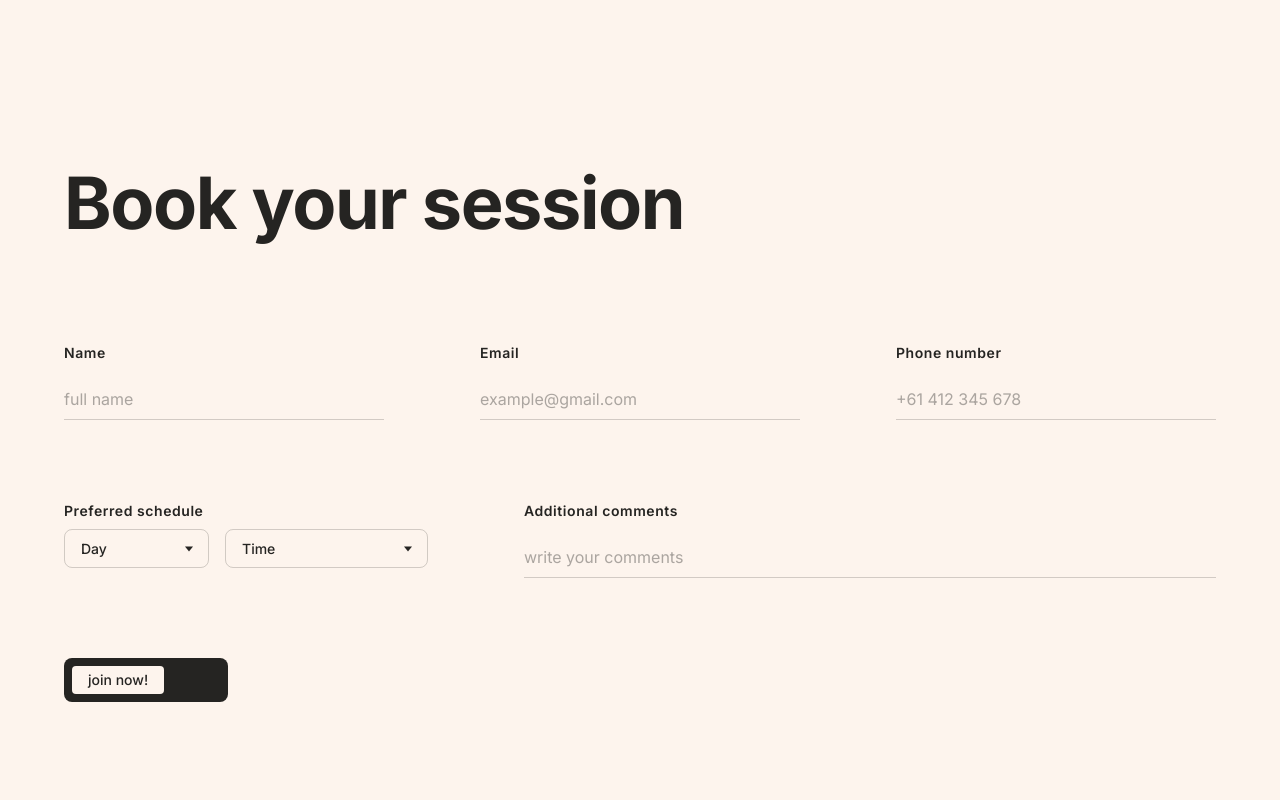
Test: BookingSection › shows error when name is empty on submit
Click the button "join now!" at (146, 680), box x1=64 y1=658 x2=228 y2=702
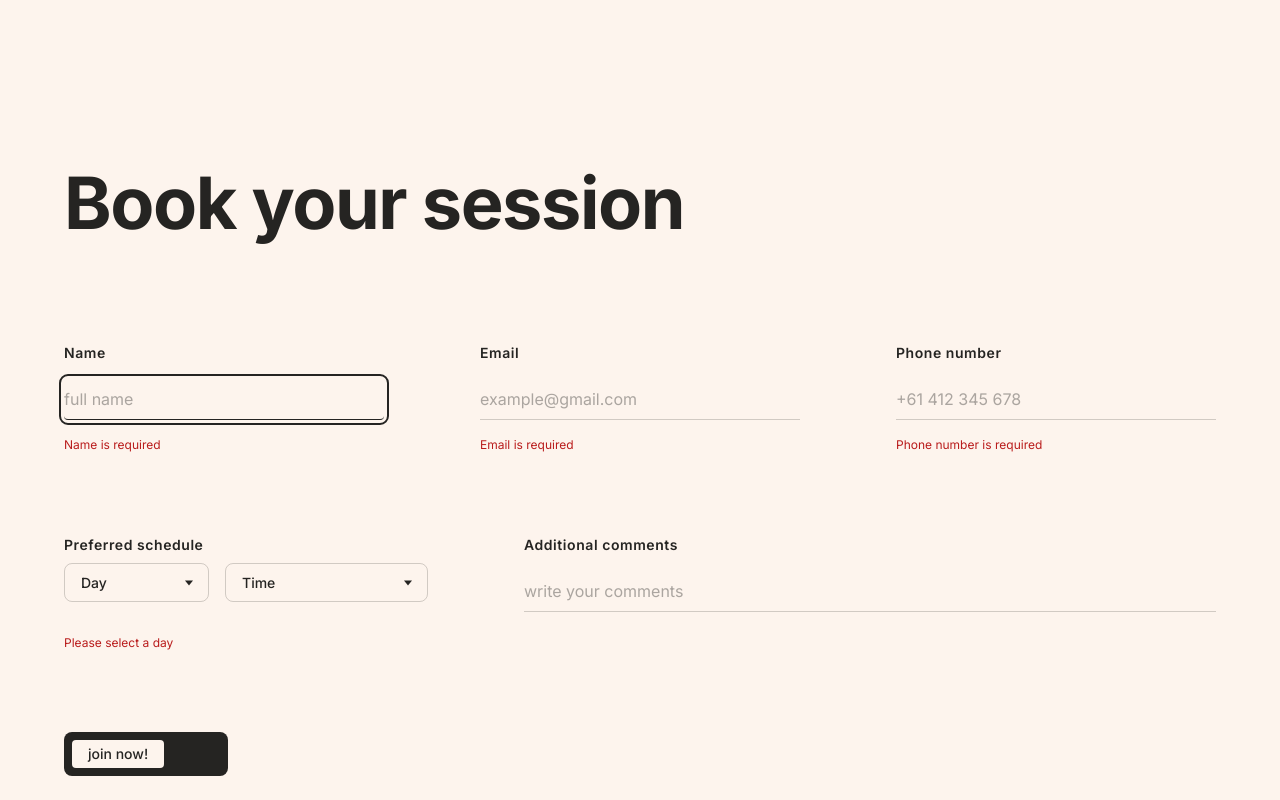
Check: the text "Name is required" is shown, box x1=64 y1=437 x2=161 y2=452
